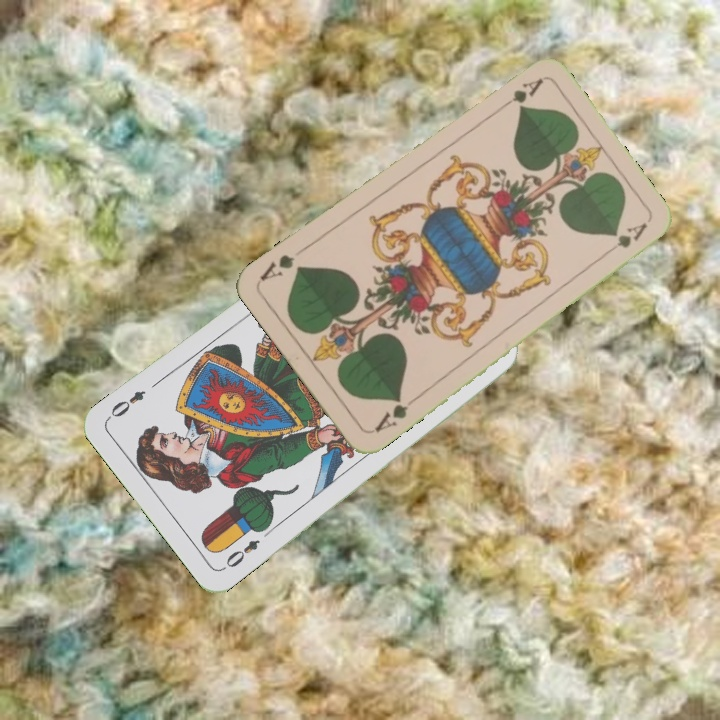EO: (218, 535, 263, 573)
GA: (493, 74, 545, 115), (370, 393, 411, 436)
